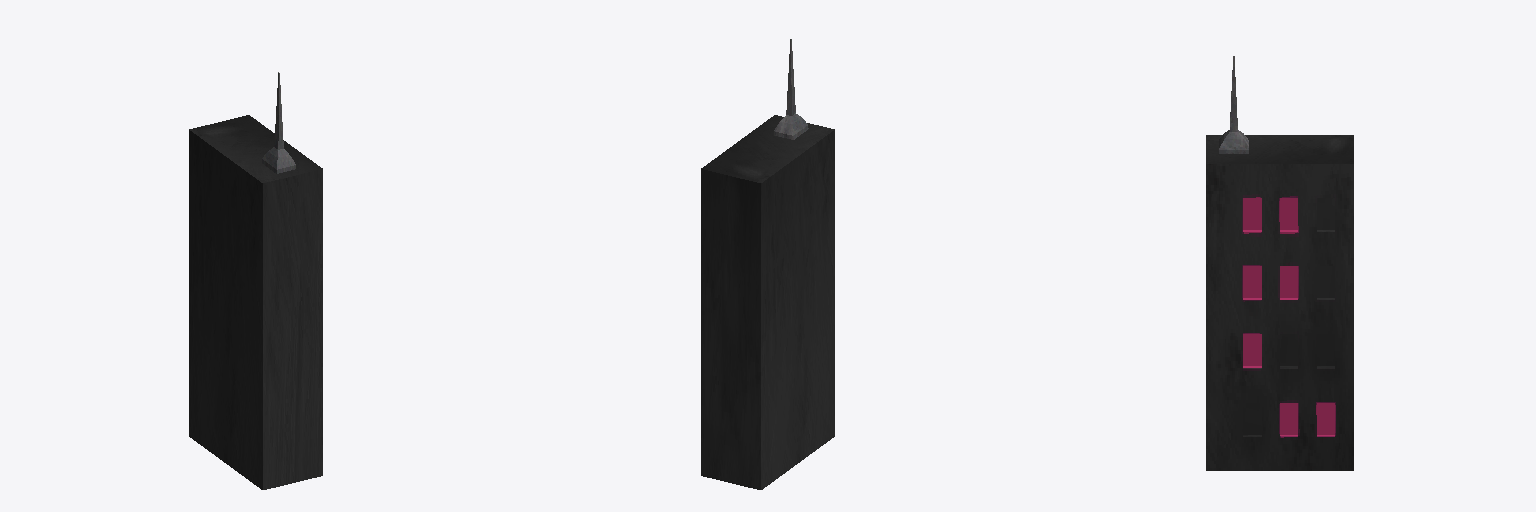
The picture shows the model from 3 angles: view 1: azimuth 30°, elevation 25°; view 2: azimuth 150°, elevation 25°; view 3: azimuth 270°, elevation 25°; orthographic projection.
Parts seen in each view (by area): view 1: Cube_Cube.002; view 2: Cube_Cube.002; view 3: Cube_Cube.002.
Boxes of the visible parts, box(x1,y1,x2,y2) form: Cube_Cube.002: box(189, 72, 322, 489); Cube_Cube.002: box(701, 39, 834, 489); Cube_Cube.002: box(1206, 56, 1353, 470).
Bounding box in the file's own units: 2.31 × 14.66 × 4.9.
1 materials, 1 textured.